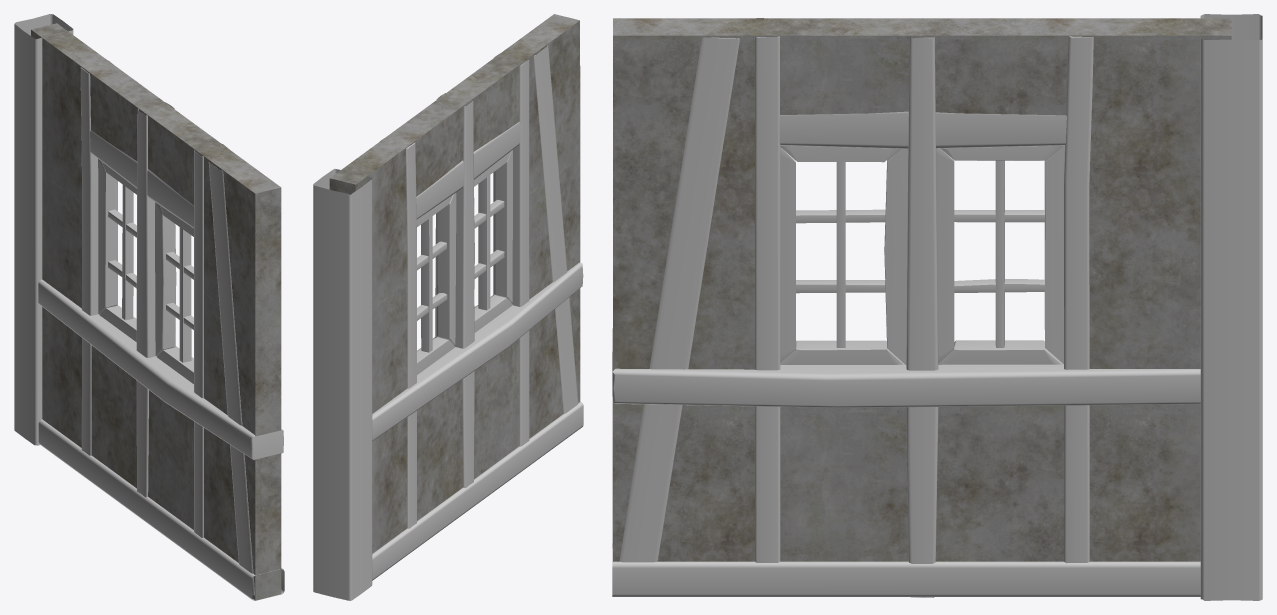
Rendered from SM_Wall22.fbx.
3 renders of one model, left to right at view 1: azimuth 30°, elevation 25°; view 2: azimuth 150°, elevation 25°; view 3: azimuth 270°, elevation 25°, orthographic. The views are drawn at different scales.
Visible parts, largest first — view 1: SM_Wall22_LOD0; view 2: SM_Wall22_LOD0; view 3: SM_Wall22_LOD0.
Part boxes in pixels (box(x1,y1,x2,y2)): SM_Wall22_LOD0: box(14, 14, 284, 600); SM_Wall22_LOD0: box(313, 14, 583, 600); SM_Wall22_LOD0: box(612, 14, 1262, 600).
Size of the model in its own units: 36.24 by 315 by 300.
